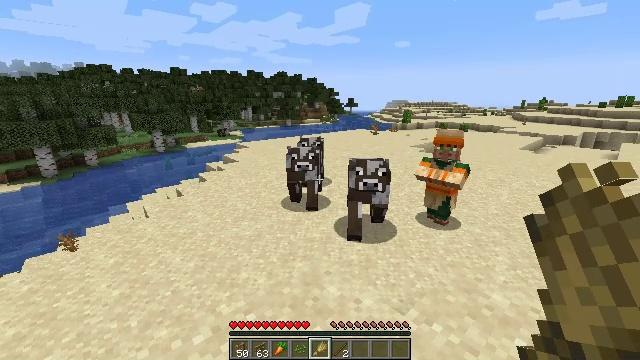cow: (348, 157, 389, 236), (287, 147, 323, 204), (298, 134, 325, 166)
